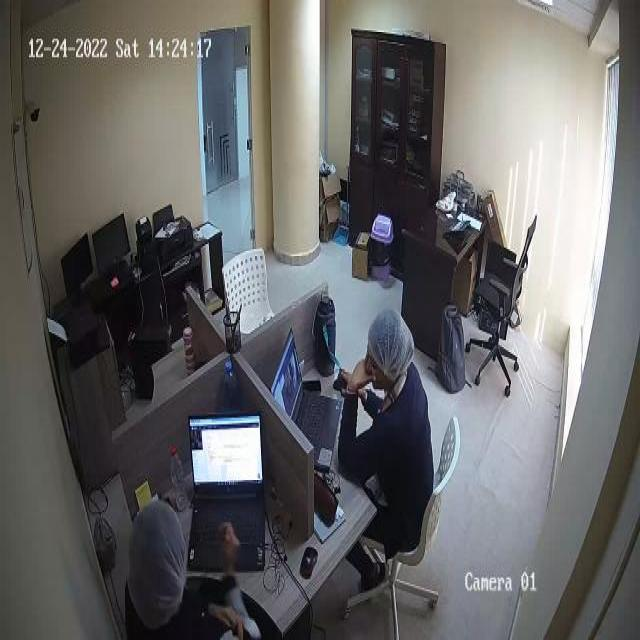hairnet: (130, 503, 187, 623), (369, 310, 414, 369)
